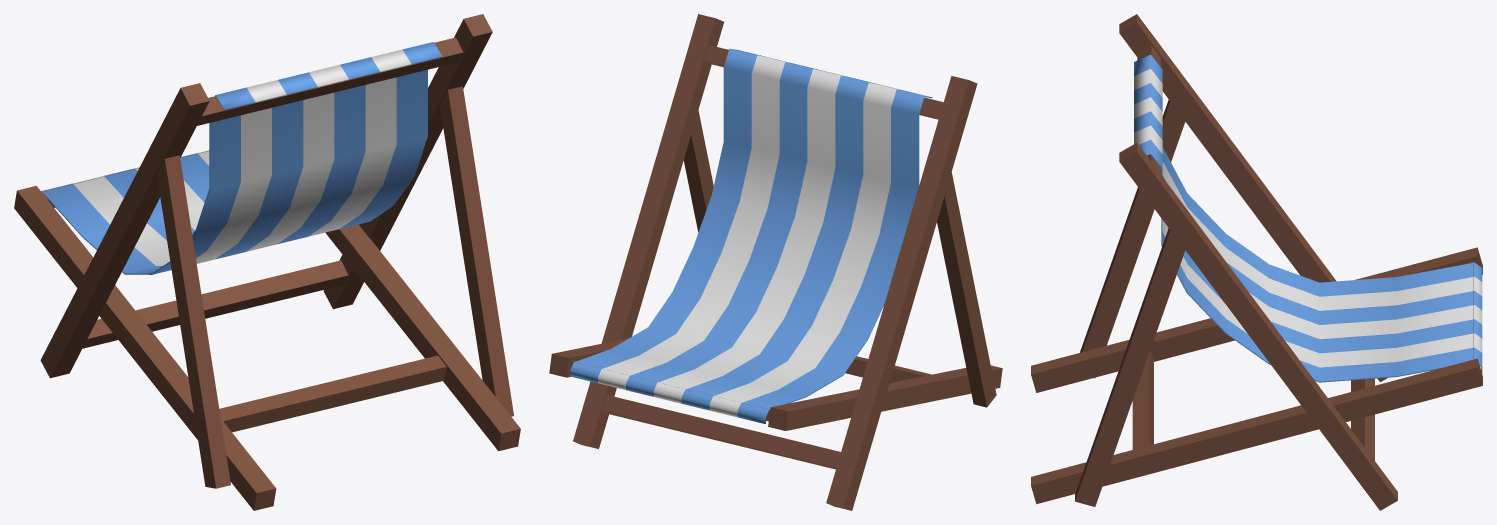
File: summer_chair.fbx
3 renders of one model, left to right at view 1: azimuth 30°, elevation 25°; view 2: azimuth 150°, elevation 25°; view 3: azimuth 270°, elevation 25°, orthographic. The views are drawn at different scales.
Visible parts, largest first — view 1: cloth, pole.001, pole.002, pole, pole.003; view 2: cloth, pole, pole.002, pole.003, pole.001; view 3: cloth, pole, pole.001, pole.002, pole.003.
Part boxes in pixels (x1,y1,x2,y2): cloth: (41, 42, 442, 274); pole.001: (14, 185, 520, 510); pole.002: (157, 86, 513, 488); pole: (40, 14, 492, 378); pole.003: (42, 37, 463, 432); cloth: (570, 48, 932, 423); pole: (573, 14, 977, 510); pole.002: (683, 110, 996, 407); pole.003: (569, 45, 943, 469); pole.001: (549, 338, 1002, 430); cloth: (1134, 54, 1482, 382); pole: (1119, 14, 1397, 510); pole.001: (1031, 247, 1482, 504); pole.002: (1075, 99, 1185, 506); pole.003: (1132, 45, 1473, 460).
Bounding box in the file's own units: 61.56 × 75.47 × 85.51.
